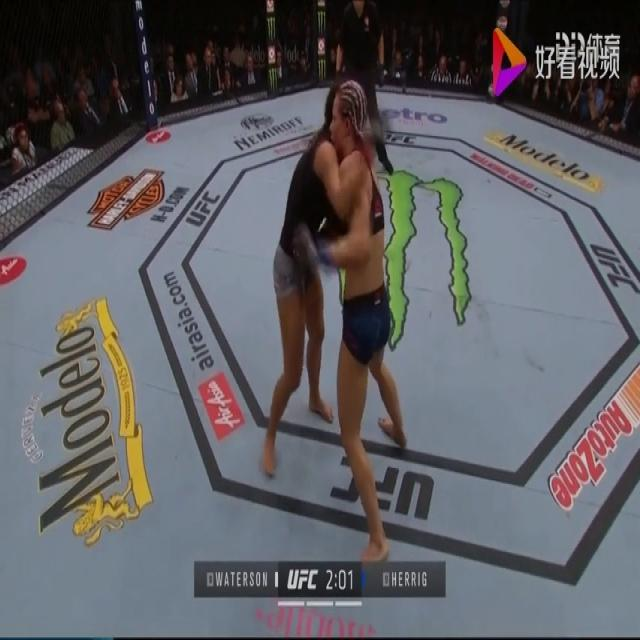fight: (257, 74, 419, 554)
